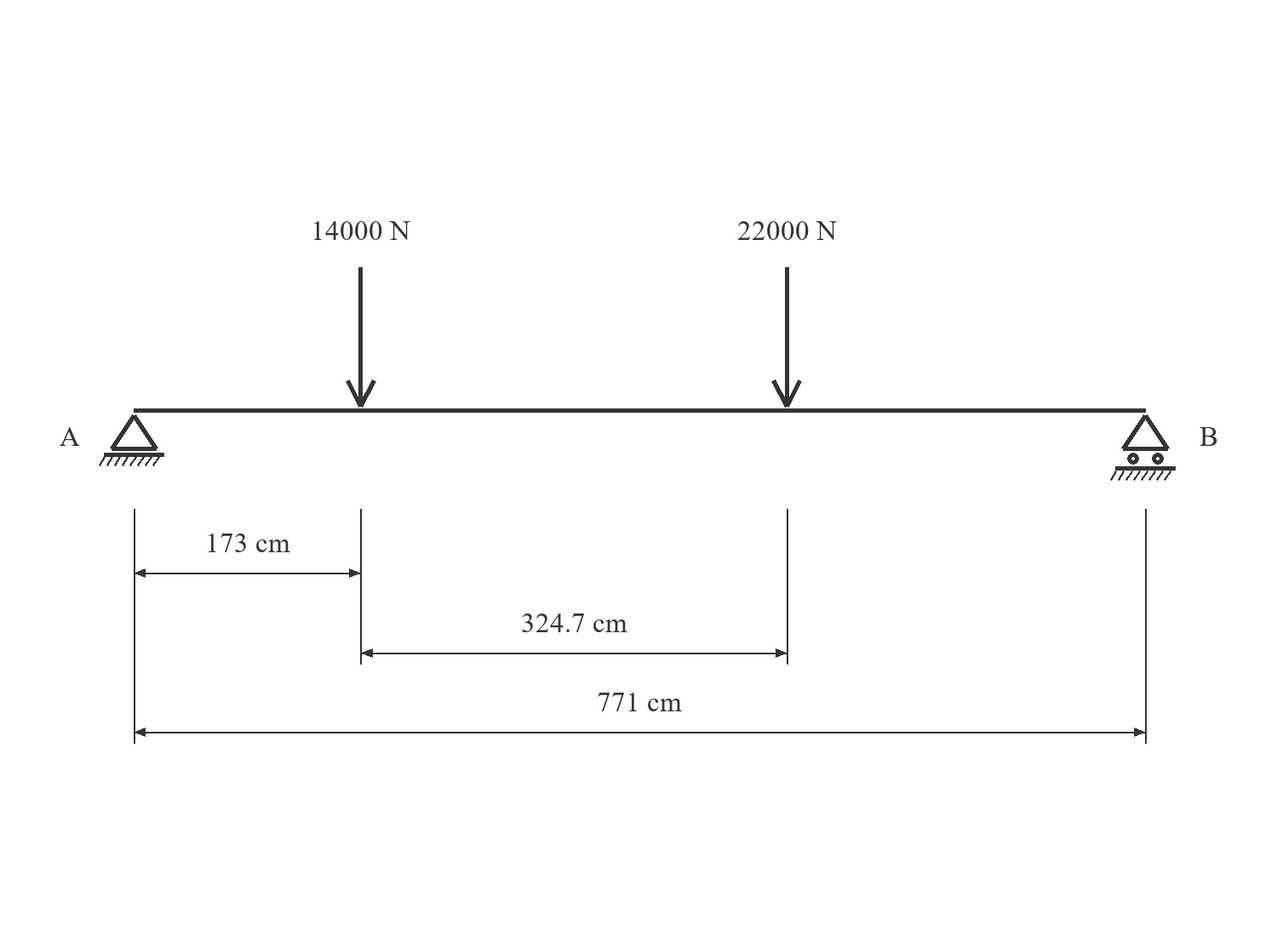pin_support: (99, 414, 164, 466)
point_load: (771, 267, 802, 408), (346, 267, 376, 408)
roller_support: (1110, 414, 1176, 481)
